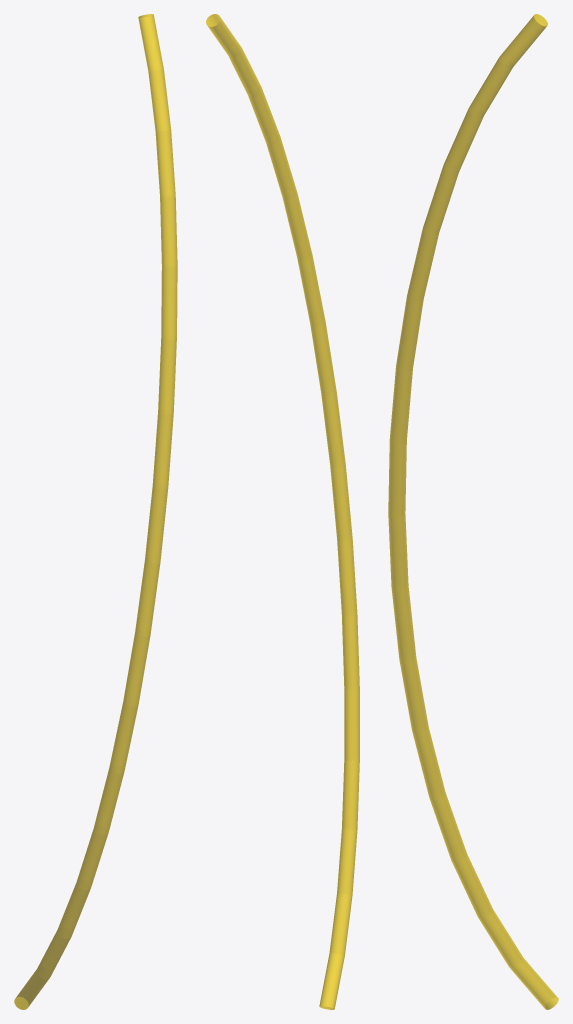
The model's file is Event_17758602_track_6.fbx.
3 renders of one model, left to right at view 1: azimuth 30°, elevation 25°; view 2: azimuth 150°, elevation 25°; view 3: azimuth 270°, elevation 25°, orthographic. The views are drawn at different scales.
Parts seen in each view (by area): view 1: Model; view 2: Model; view 3: Model.
Boxes of the visible parts, <box> form: Model: <box>14,14,177,1009</box>; Model: <box>206,14,359,1009</box>; Model: <box>388,14,558,1009</box>.
Size of the model in its own units: 0.3895 by 2.71 by 0.397.
